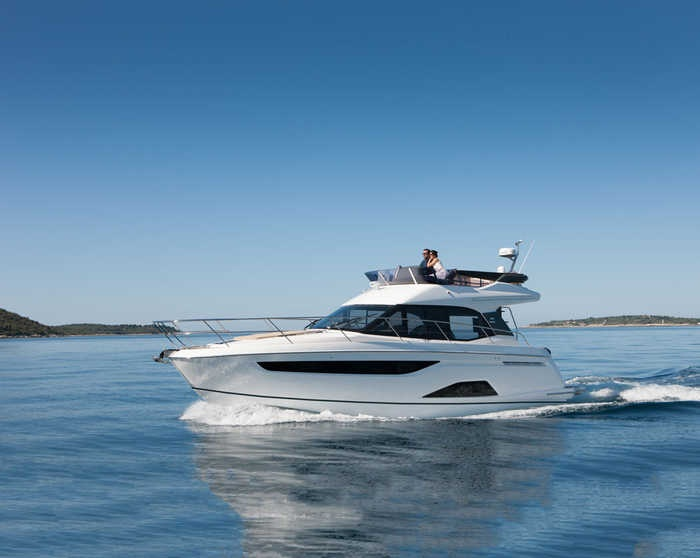yacht: (148, 228, 573, 419)
